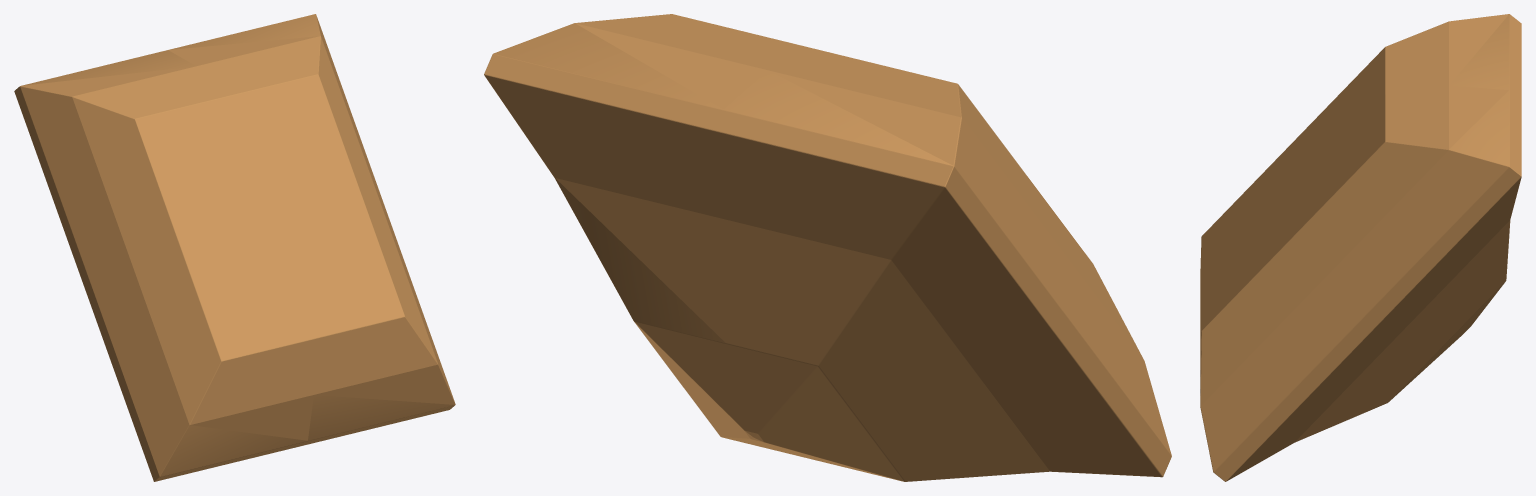
Rendered from imperial-topaz.glb.
The picture shows the model from 3 angles, left to right: view 1: azimuth 30°, elevation 25°; view 2: azimuth 150°, elevation 25°; view 3: azimuth 270°, elevation 25°; orthographic projection. The views are drawn at different scales.
Parts seen in each view (by area): view 1: imperial-topaz.001; view 2: imperial-topaz.001; view 3: imperial-topaz.001.
Boxes of the visible parts, x1,y1,x2,y2 form: imperial-topaz.001: [14, 14, 455, 481]; imperial-topaz.001: [484, 14, 1171, 481]; imperial-topaz.001: [1200, 14, 1521, 481].
Bounding box in the file's own units: 1.84 × 1.8 × 1.64.
